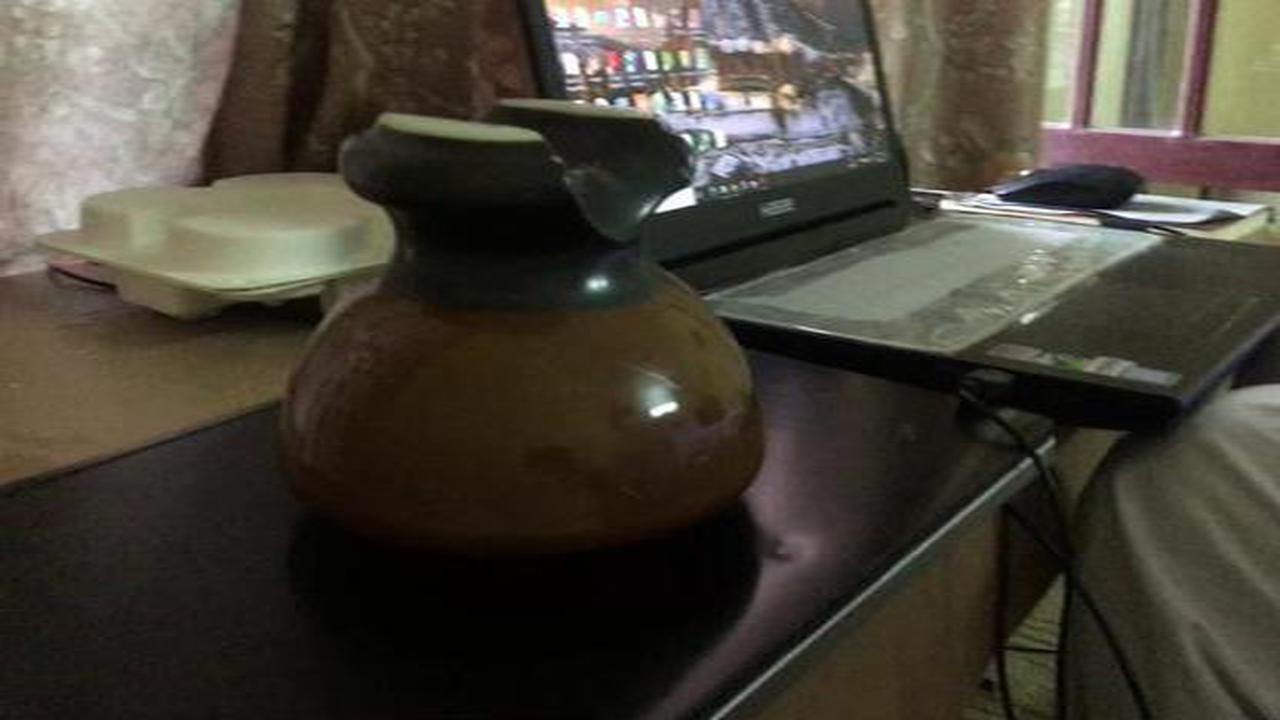insulator_pin: (259, 84, 788, 584)
